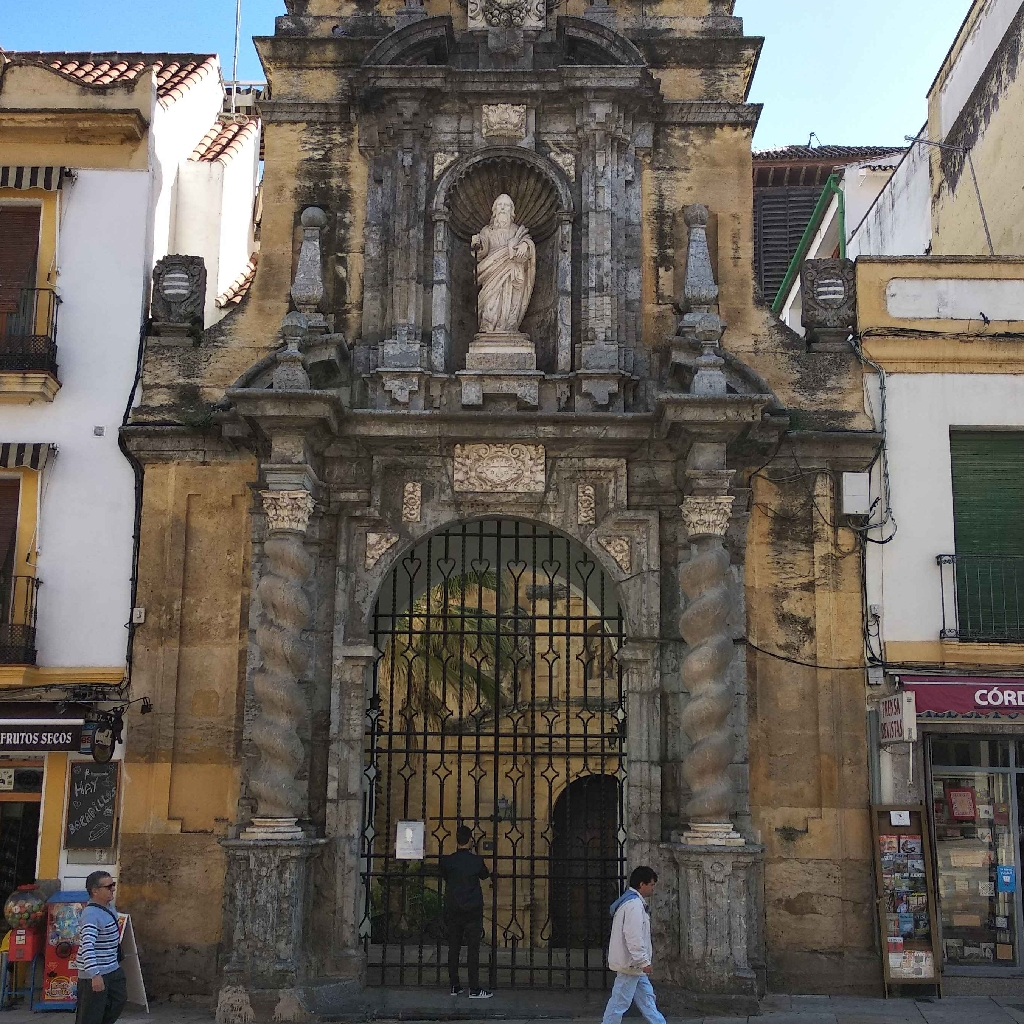arco-medio-punto: (335, 494, 638, 682)
columna-salomonica: (240, 516, 326, 815), (674, 535, 744, 831)
fronton-partido: (218, 327, 779, 437), (340, 19, 642, 87)
